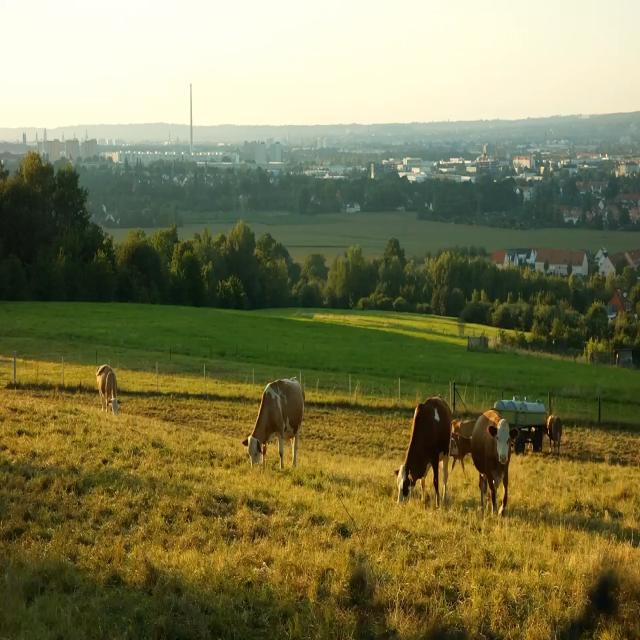cow: (236, 357, 319, 474), (386, 372, 450, 514), (471, 398, 525, 526), (93, 352, 133, 420)
